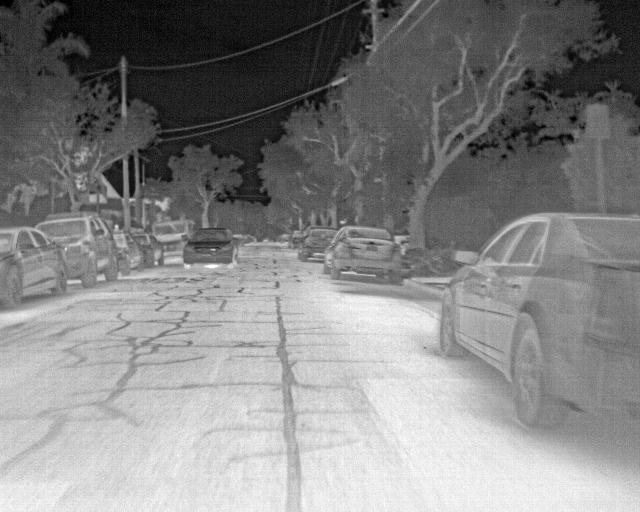car: (437, 210, 639, 431), (0, 225, 68, 308), (323, 223, 401, 281), (68, 209, 119, 288), (181, 225, 242, 267), (116, 229, 140, 275), (299, 225, 325, 262), (139, 232, 165, 267), (164, 221, 183, 264), (38, 210, 68, 227), (291, 226, 301, 247), (241, 233, 256, 245), (277, 233, 289, 245)
